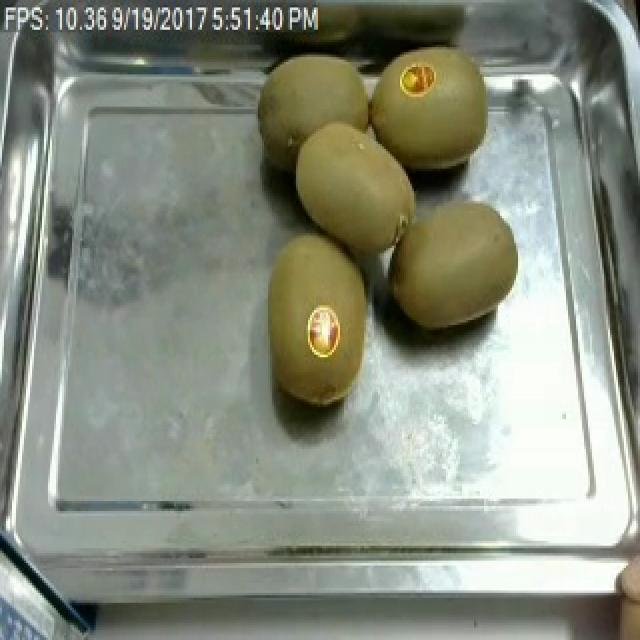Fruit: (250, 218, 386, 417), (282, 109, 430, 268), (378, 186, 530, 340), (354, 44, 508, 188)
